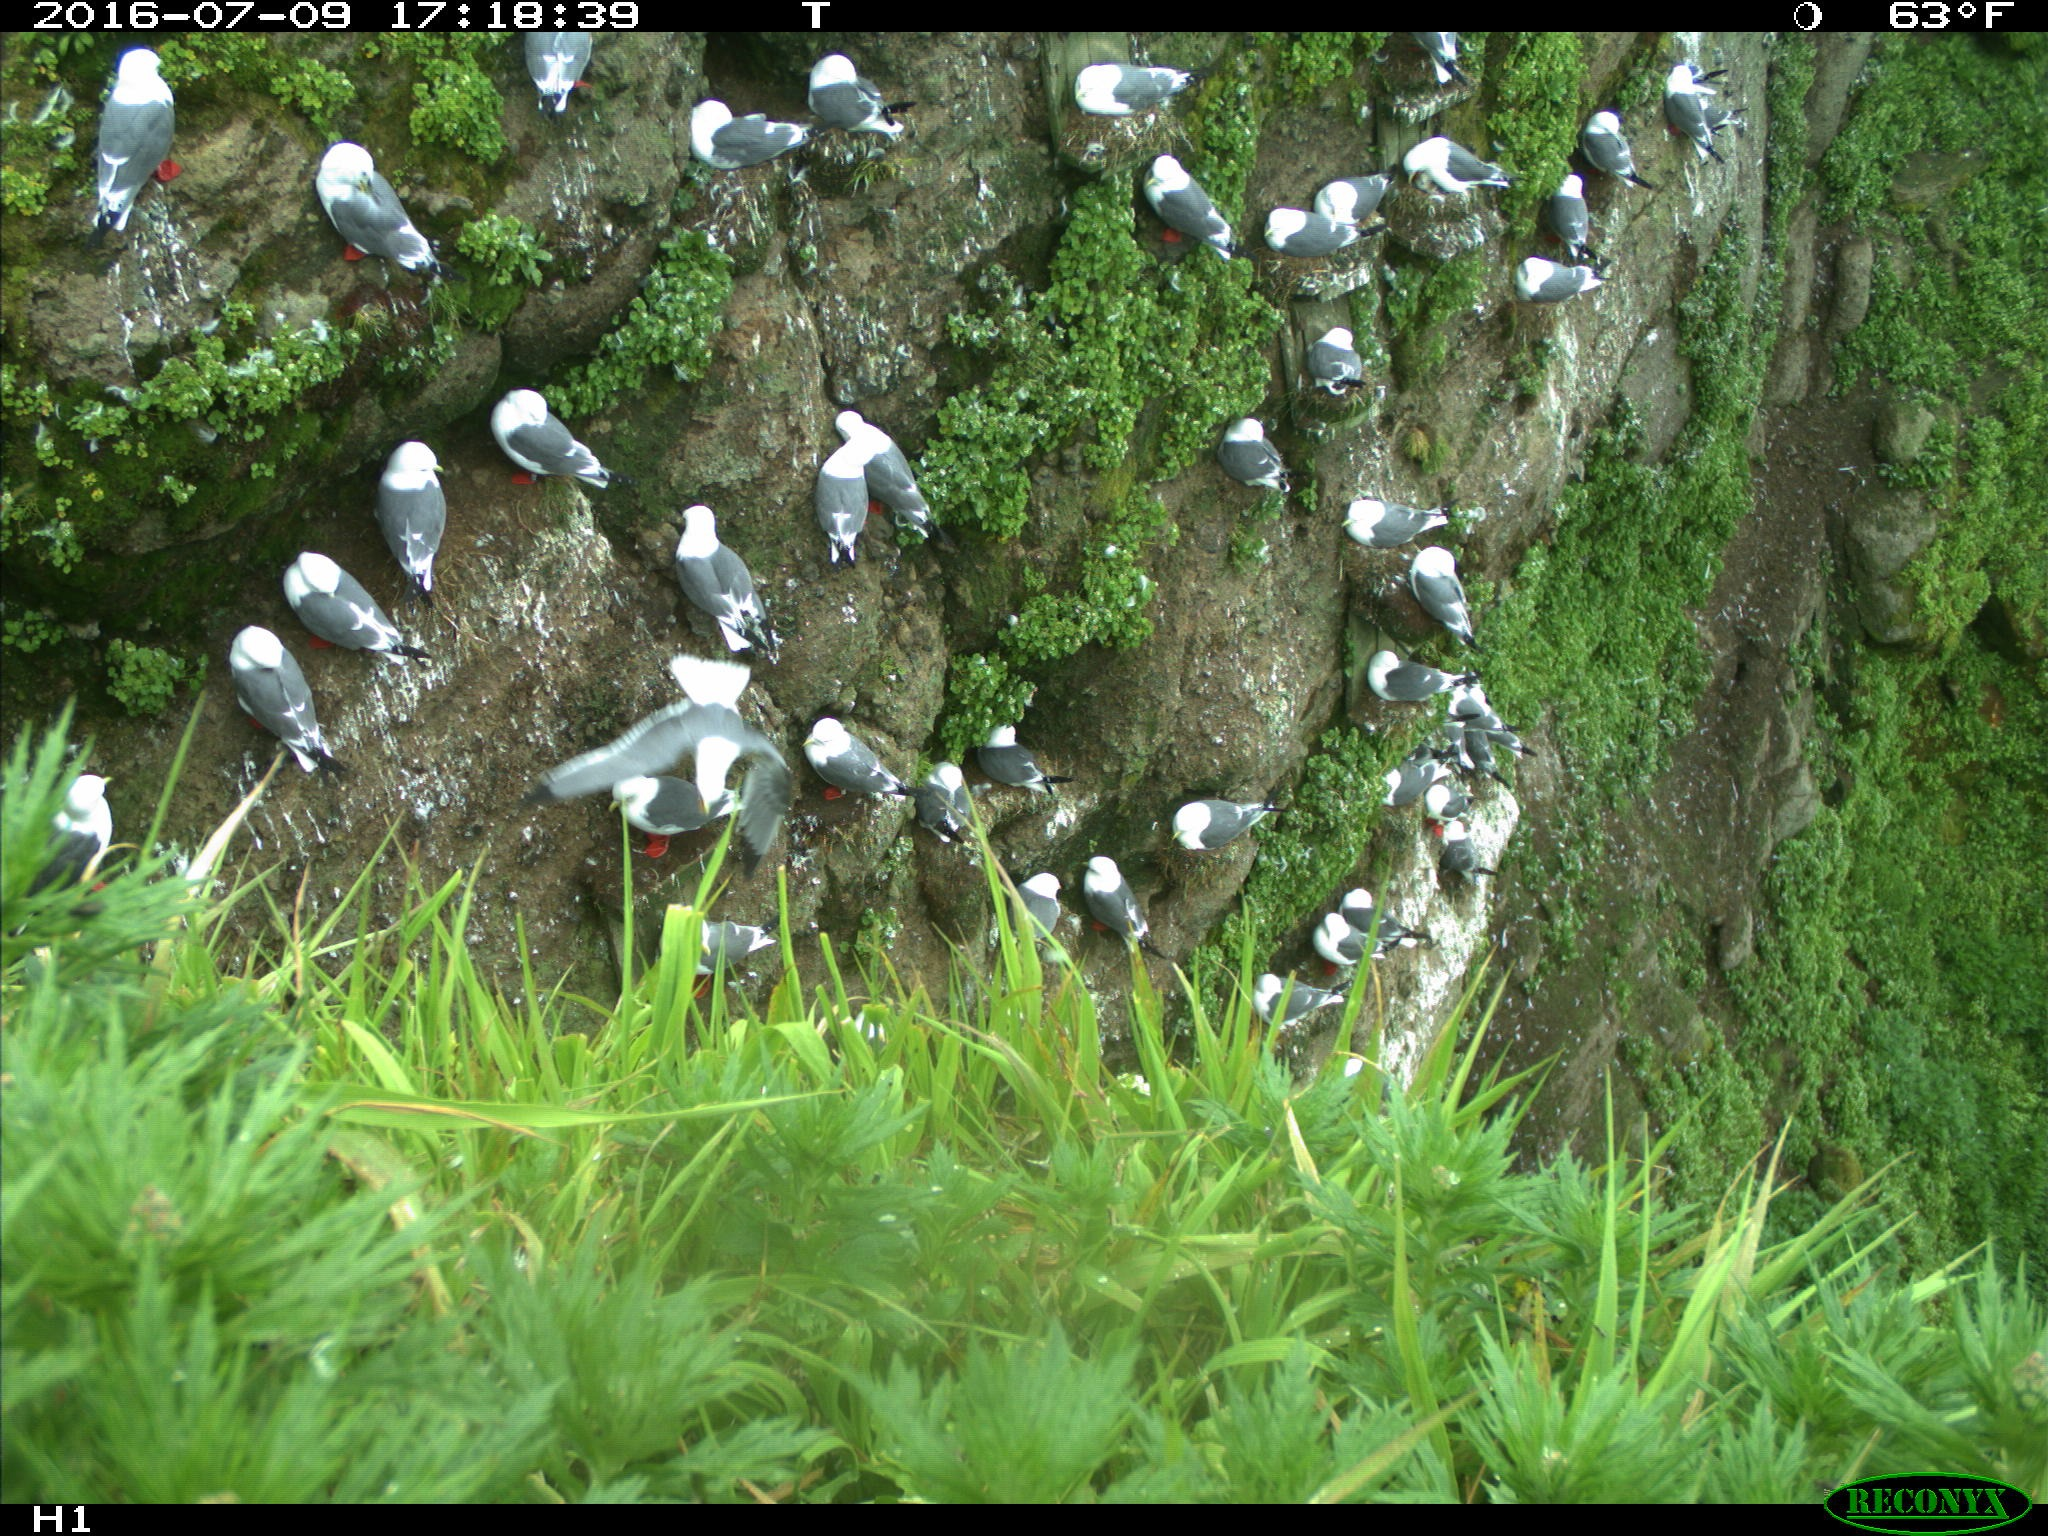Kittiwake: (77, 42, 211, 252), (256, 534, 443, 678), (198, 626, 406, 744), (631, 474, 763, 650), (597, 728, 758, 871), (306, 123, 432, 295), (463, 365, 622, 495), (658, 89, 847, 195), (816, 395, 951, 534), (774, 442, 916, 571), (774, 684, 872, 868), (371, 429, 514, 552), (37, 768, 137, 925), (635, 891, 789, 991), (1642, 53, 1742, 194), (1045, 47, 1213, 129), (1400, 110, 1508, 232), (1134, 145, 1242, 266), (1414, 520, 1517, 642), (1338, 628, 1467, 720), (806, 45, 906, 161), (982, 866, 1072, 991), (1145, 779, 1280, 862), (1517, 173, 1646, 258), (1287, 157, 1416, 242), (1321, 850, 1429, 950), (897, 742, 992, 854), (1251, 179, 1371, 266), (1484, 245, 1630, 313), (1564, 90, 1646, 208), (984, 694, 1063, 815), (1229, 963, 1338, 1050), (1205, 395, 1292, 499), (1069, 842, 1155, 947), (514, 27, 601, 127), (1335, 465, 1414, 573), (1293, 316, 1392, 400), (1309, 897, 1405, 983), (1355, 749, 1471, 813)
